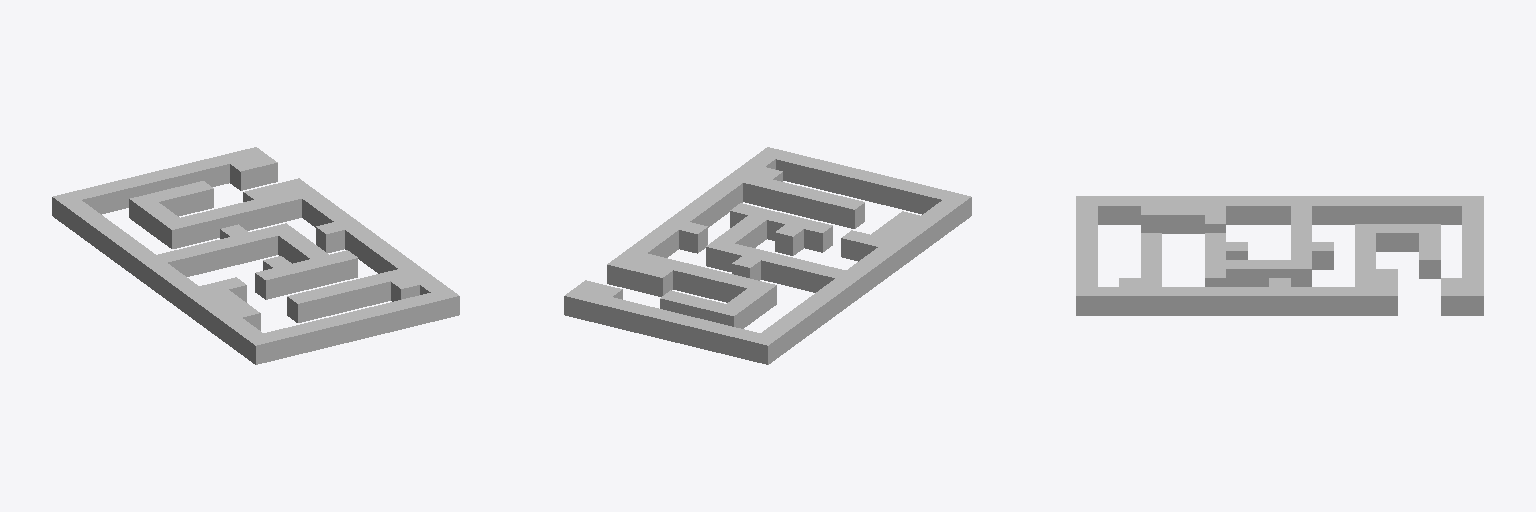
The model's file is map2.obj.
The picture shows the model from 3 angles: view 1: azimuth 30°, elevation 25°; view 2: azimuth 150°, elevation 25°; view 3: azimuth 270°, elevation 25°; orthographic projection.
Visible parts, largest first — view 1: mergedBlocks; view 2: mergedBlocks; view 3: mergedBlocks.
Boxes of the visible parts, x1,y1,x2,y2 form: mergedBlocks: [52, 147, 459, 364]; mergedBlocks: [564, 147, 971, 364]; mergedBlocks: [1076, 196, 1483, 315].
Bounding box in the file's own units: 11 × 1 × 19.